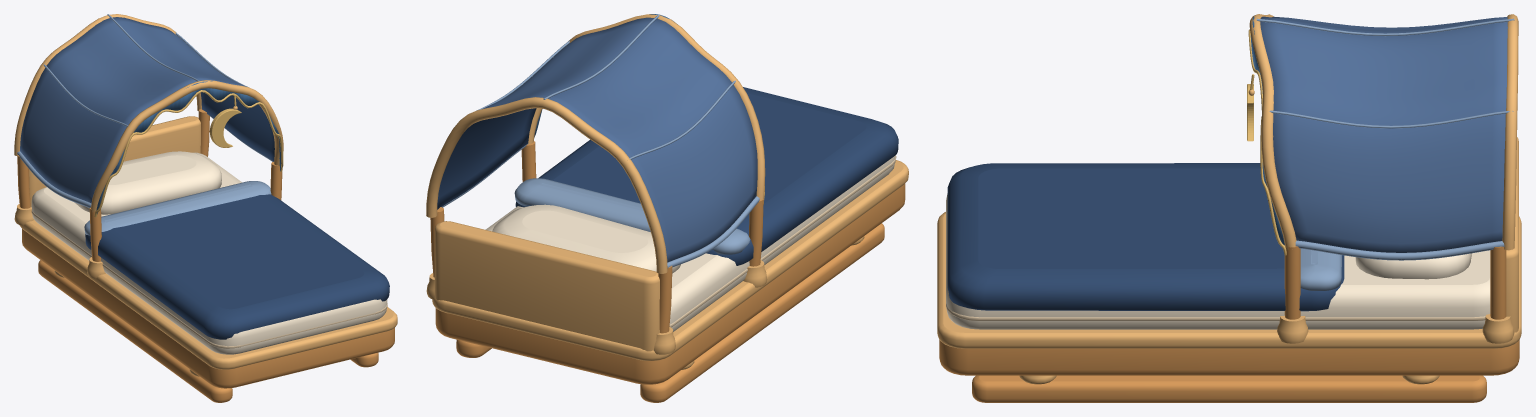
The model's file is stargazer-bed.glb.
3 views of the same model, side by side, from view 1: azimuth 30°, elevation 25°; view 2: azimuth 150°, elevation 25°; view 3: azimuth 270°, elevation 25° (orthographic). The views are drawn at different scales.
Parts seen in each view (by area): view 1: stargazerBed; view 2: stargazerBed; view 3: stargazerBed.
Boxes of the visible parts, left/top/right/bottom form: stargazerBed: left=14, top=14, right=397, bottom=402; stargazerBed: left=426, top=14, right=908, bottom=402; stargazerBed: left=937, top=14, right=1521, bottom=402.
Size of the model in its own units: 1.69 by 1.89 by 3.05.
